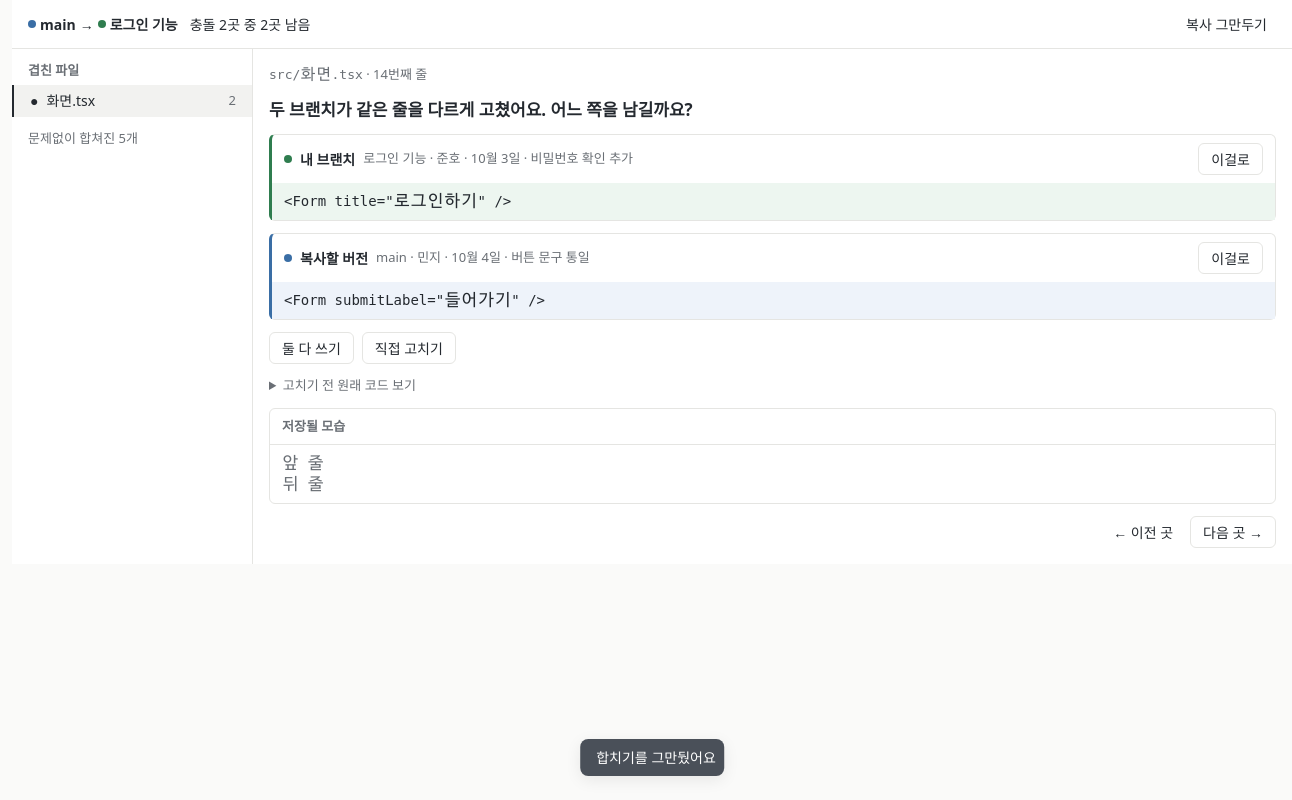
Scenario: 충돌 해결 화면 › cherryPick 맥락의 쪽 이름과 단추
Expected: the text "<Form title=\"로그인하기\" />" is shown, [272,183,1275,220]
Expected: the text "내 브랜치" is shown, [300,148,355,170]
Click the button "복사 그만두기".
click(1227, 24)  # box [1177,8,1276,40]
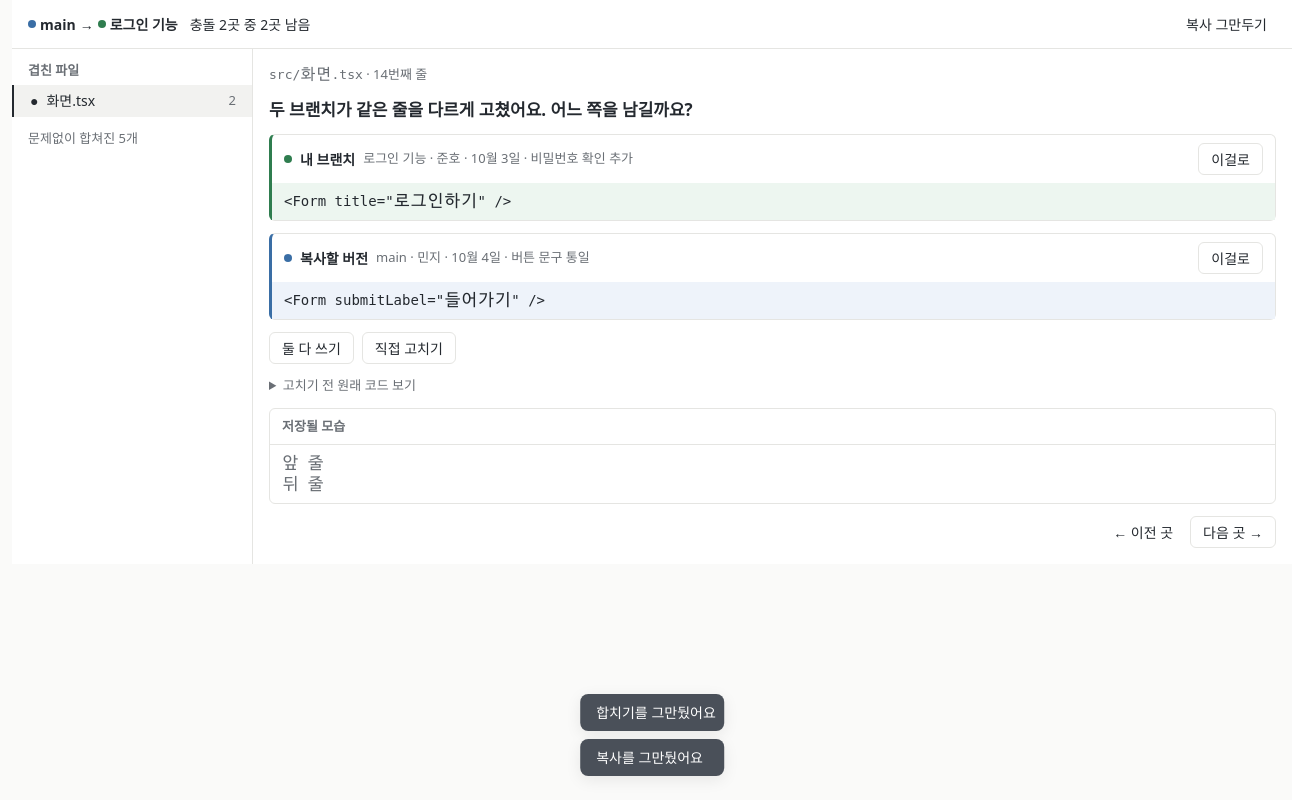
Now the text "복사를 그만뒀어요" is shown, box [596,747,703,768]
